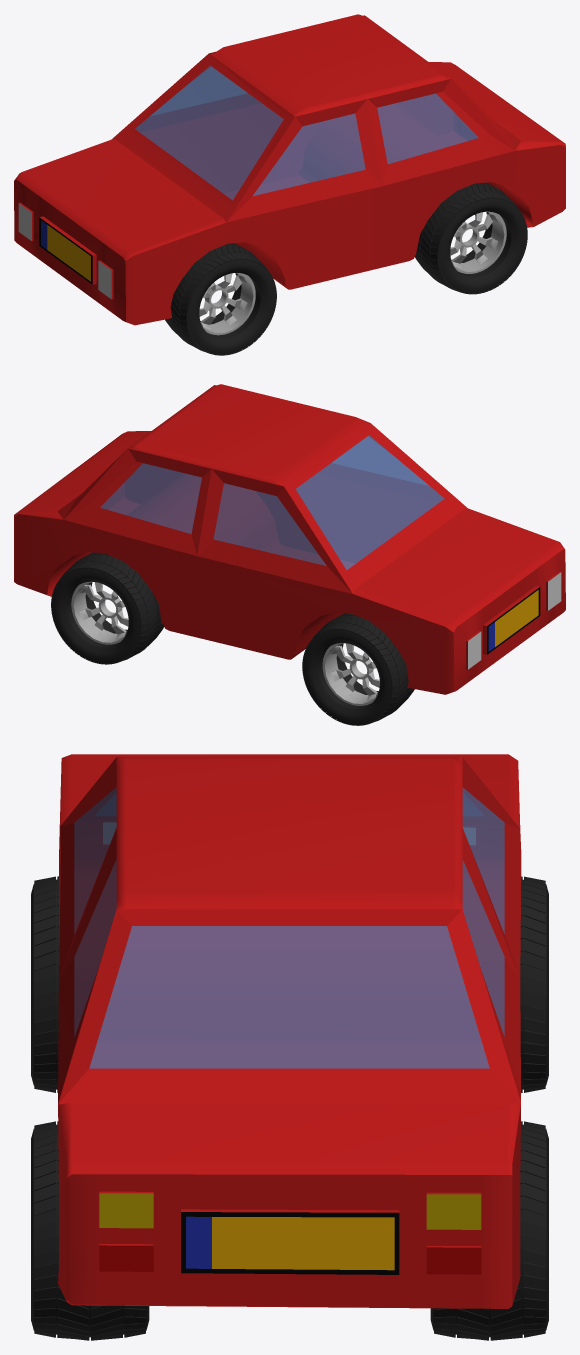
File: Vehicle.fbx
The picture shows the model from 3 angles, top to bottom: view 1: azimuth 30°, elevation 25°; view 2: azimuth 150°, elevation 25°; view 3: azimuth 270°, elevation 25°; orthographic projection. The views are drawn at different scales.
Visible parts, largest first — view 1: pCube3, polySurface3, polySurface4; view 2: pCube3, polySurface2, polySurface5; view 3: pCube3, polySurface3, polySurface2, polySurface5, polySurface4.
Boxes of the visible parts, left/top/right/bottom form: pCube3: left=14, top=14, right=565, bottom=325; polySurface3: left=415, top=182, right=527, bottom=294; polySurface4: left=165, top=243, right=276, bottom=355; pCube3: left=14, top=384, right=565, bottom=694; polySurface2: left=51, top=552, right=164, bottom=664; polySurface5: left=302, top=613, right=414, bottom=725; pCube3: left=58, top=754, right=521, bottom=1308; polySurface3: left=31, top=1121, right=149, bottom=1340; polySurface2: left=430, top=1121, right=548, bottom=1340; polySurface5: left=520, top=876, right=548, bottom=1092; polySurface4: left=31, top=876, right=58, bottom=1092.
Bounding box in the file's own units: 3.73 × 1.67 × 1.86.
